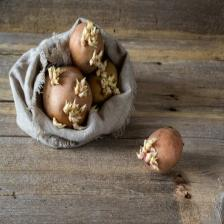Sprouted potato: (36, 56, 96, 128), (139, 120, 184, 177), (70, 14, 102, 73), (86, 48, 120, 102)
